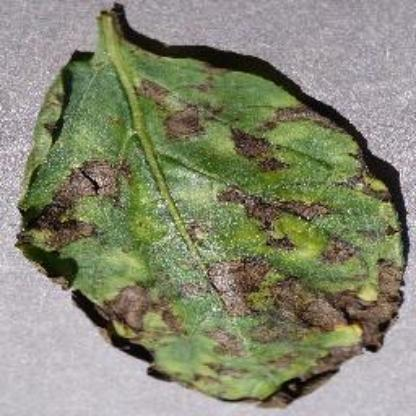Early-Blight: (16, 8, 408, 408)
